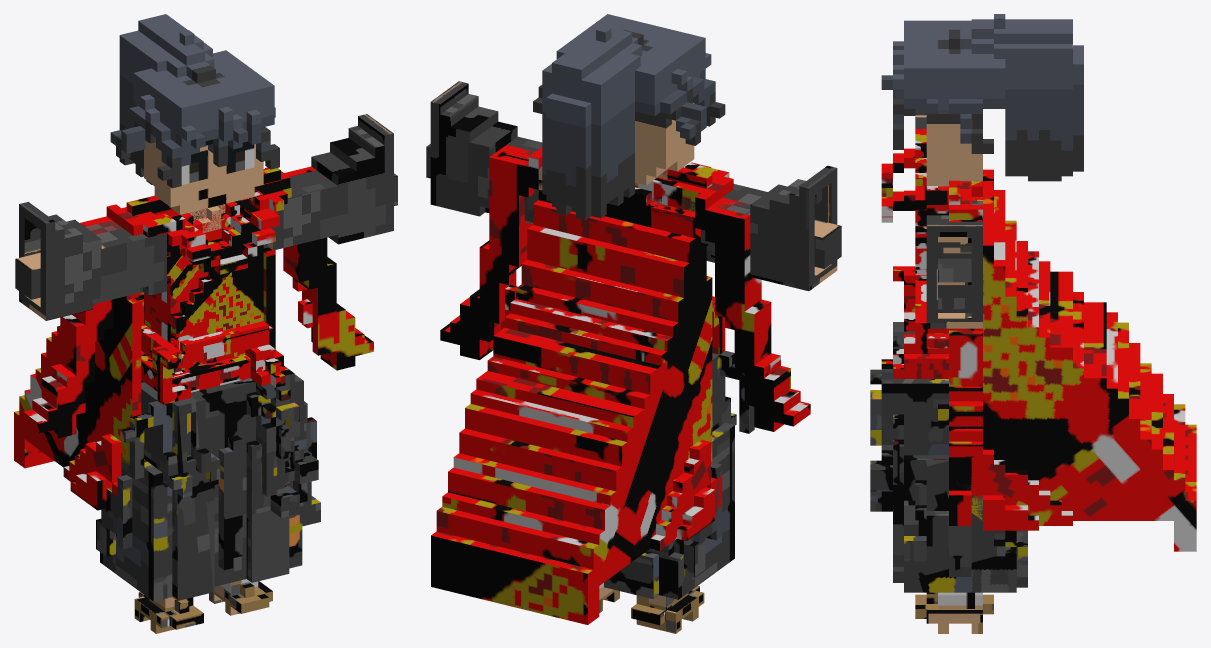
Rendered from shimazuyoshihiro.glb.
3 renders of one model, left to right at view 1: azimuth 30°, elevation 25°; view 2: azimuth 150°, elevation 25°; view 3: azimuth 270°, elevation 25°, orthographic. The views are drawn at different scales.
Parts seen in each view (by area): view 1: shimazuyoshihiro-1, shimazuyoshihiro-6, shimazuyoshihiro-3, shimazuyoshihiro-7, shimazuyoshihiro-4, shimazuyoshihiro-5, shimazuyoshihiro-2, shimazuyoshihiro-0; view 2: shimazuyoshihiro-6, shimazuyoshihiro-3, shimazuyoshihiro-4, shimazuyoshihiro-1, shimazuyoshihiro-5, shimazuyoshihiro-2, shimazuyoshihiro-7; view 3: shimazuyoshihiro-6, shimazuyoshihiro-3, shimazuyoshihiro-1, shimazuyoshihiro-5, shimazuyoshihiro-7, shimazuyoshihiro-0.
Part boxes in pixels (bbox=[...]): shimazuyoshihiro-1: bbox=[96, 369, 320, 601]; shimazuyoshihiro-6: bbox=[14, 166, 373, 510]; shimazuyoshihiro-3: bbox=[110, 14, 279, 232]; shimazuyoshihiro-7: bbox=[141, 190, 288, 404]; shimazuyoshihiro-4: bbox=[15, 202, 166, 320]; shimazuyoshihiro-5: bbox=[263, 114, 397, 251]; shimazuyoshihiro-2: bbox=[134, 592, 203, 633]; shimazuyoshihiro-0: bbox=[209, 579, 272, 615]; shimazuyoshihiro-6: bbox=[431, 145, 810, 624]; shimazuyoshihiro-3: bbox=[533, 14, 725, 220]; shimazuyoshihiro-4: bbox=[681, 165, 841, 291]; shimazuyoshihiro-1: bbox=[604, 350, 754, 599]; shimazuyoshihiro-5: bbox=[426, 81, 542, 223]; shimazuyoshihiro-2: bbox=[631, 585, 704, 633]; shimazuyoshihiro-7: bbox=[623, 163, 725, 354]; shimazuyoshihiro-6: bbox=[881, 129, 1196, 551]; shimazuyoshihiro-3: bbox=[881, 14, 1083, 186]; shimazuyoshihiro-1: bbox=[870, 322, 1027, 592]; shimazuyoshihiro-5: bbox=[926, 201, 982, 328]; shimazuyoshihiro-7: bbox=[881, 143, 982, 378]; shimazuyoshihiro-0: bbox=[915, 592, 993, 633].
Size of the model in its own units: 4 by 5.8 by 2.9.
Materials: 8 (8 with a texture image).
